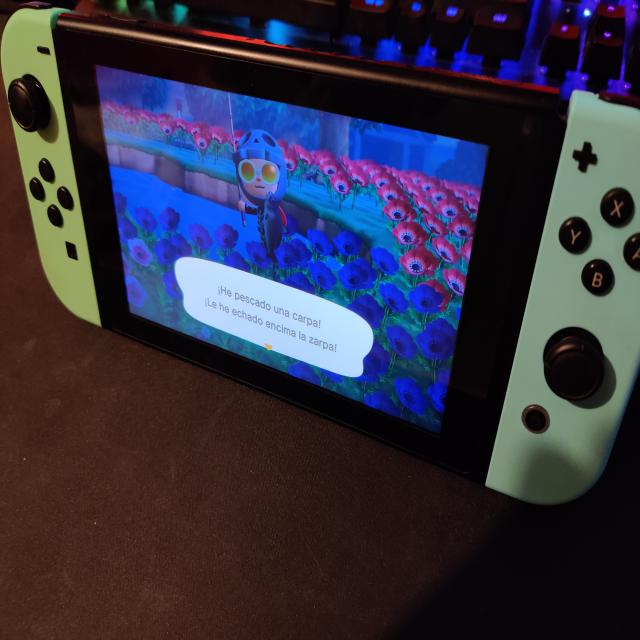text_bubble: (175, 254, 377, 382)
